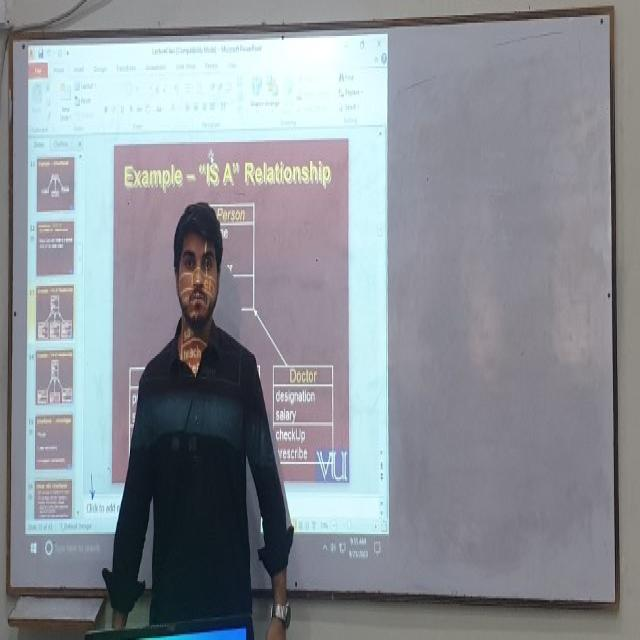Instructor: (126, 196, 265, 618)
Slide: (24, 34, 392, 565)
White-board: (7, 14, 619, 607)
